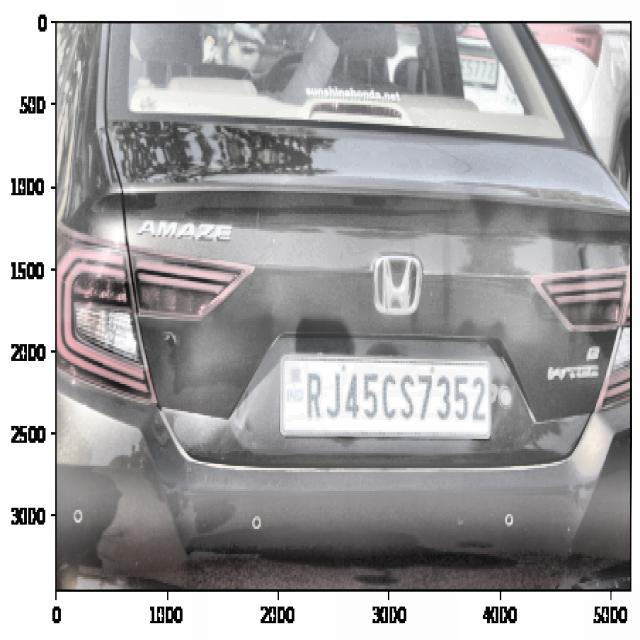license_plate: (299, 361, 491, 432)
